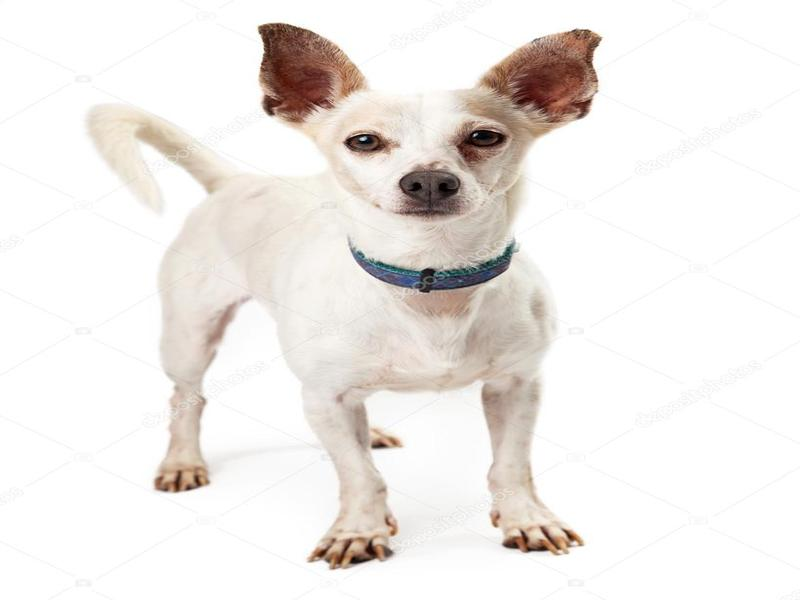dog_stand: (87, 18, 605, 576)
